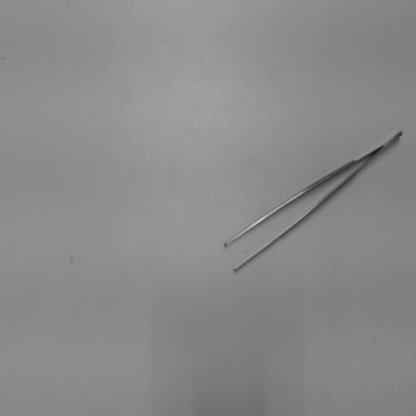Gillies Toothed Dissector: (210, 122, 408, 286)
